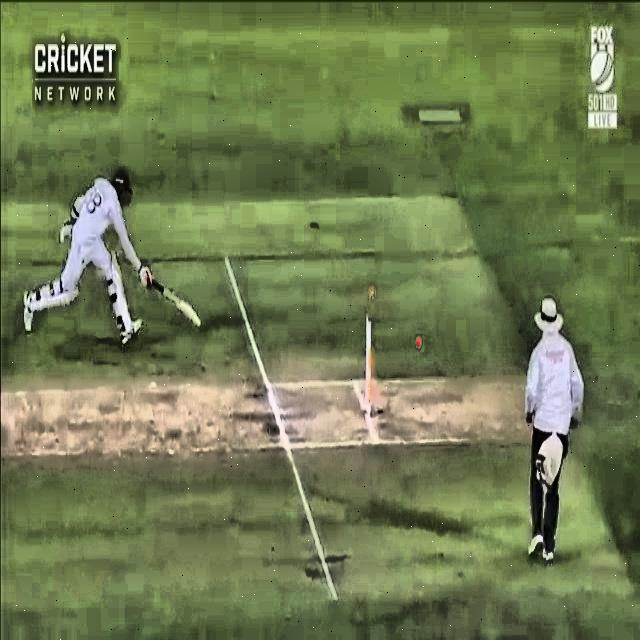Ball: (408, 322, 434, 359)
Bat: (132, 264, 205, 330)
Dis_Wicket: (355, 275, 381, 431)
Pitch_Line: (222, 256, 336, 601)
